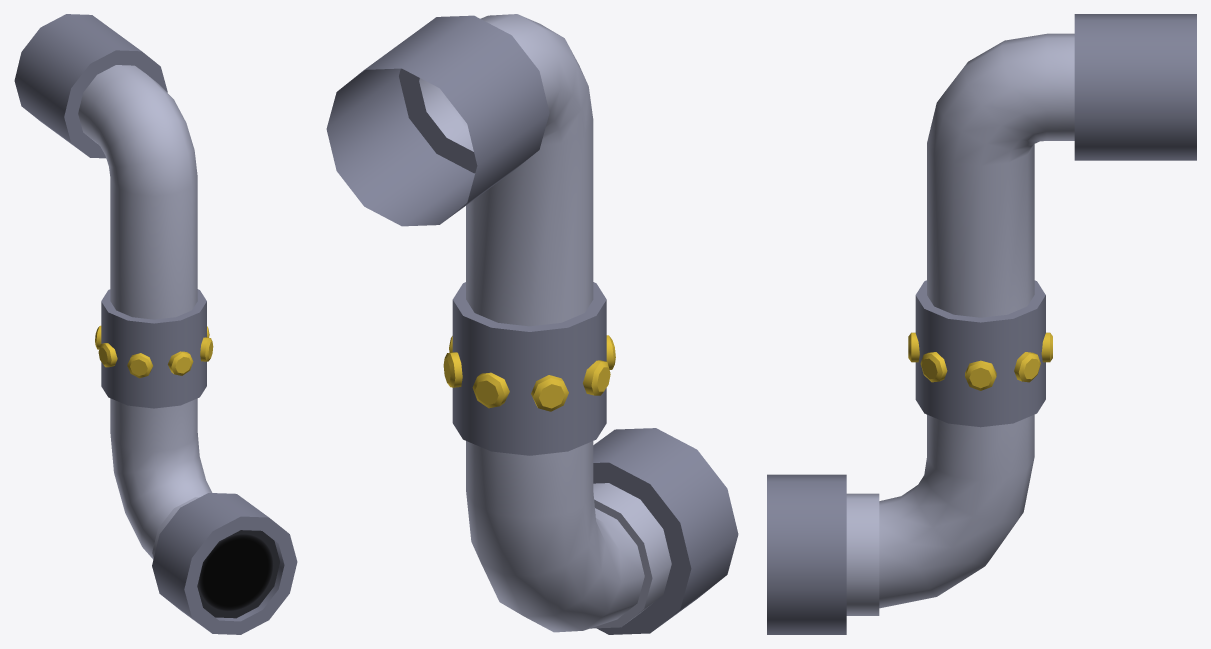
Rendered from pipe.fbx.
The picture shows the model from 3 angles, left to right: view 1: azimuth 30°, elevation 25°; view 2: azimuth 150°, elevation 25°; view 3: azimuth 270°, elevation 25°; orthographic projection. The views are drawn at different scales.
Visible parts, largest first — view 1: Cylinder; view 2: Cylinder; view 3: Cylinder.
Boxes of the visible parts, <box> form: Cylinder: <box>14,14,297,634</box>; Cylinder: <box>326,14,738,634</box>; Cylinder: <box>767,14,1196,634</box>.
Size of the model in its own units: 201 by 838 by 538.
